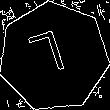L_S: (31, 28, 77, 86)
